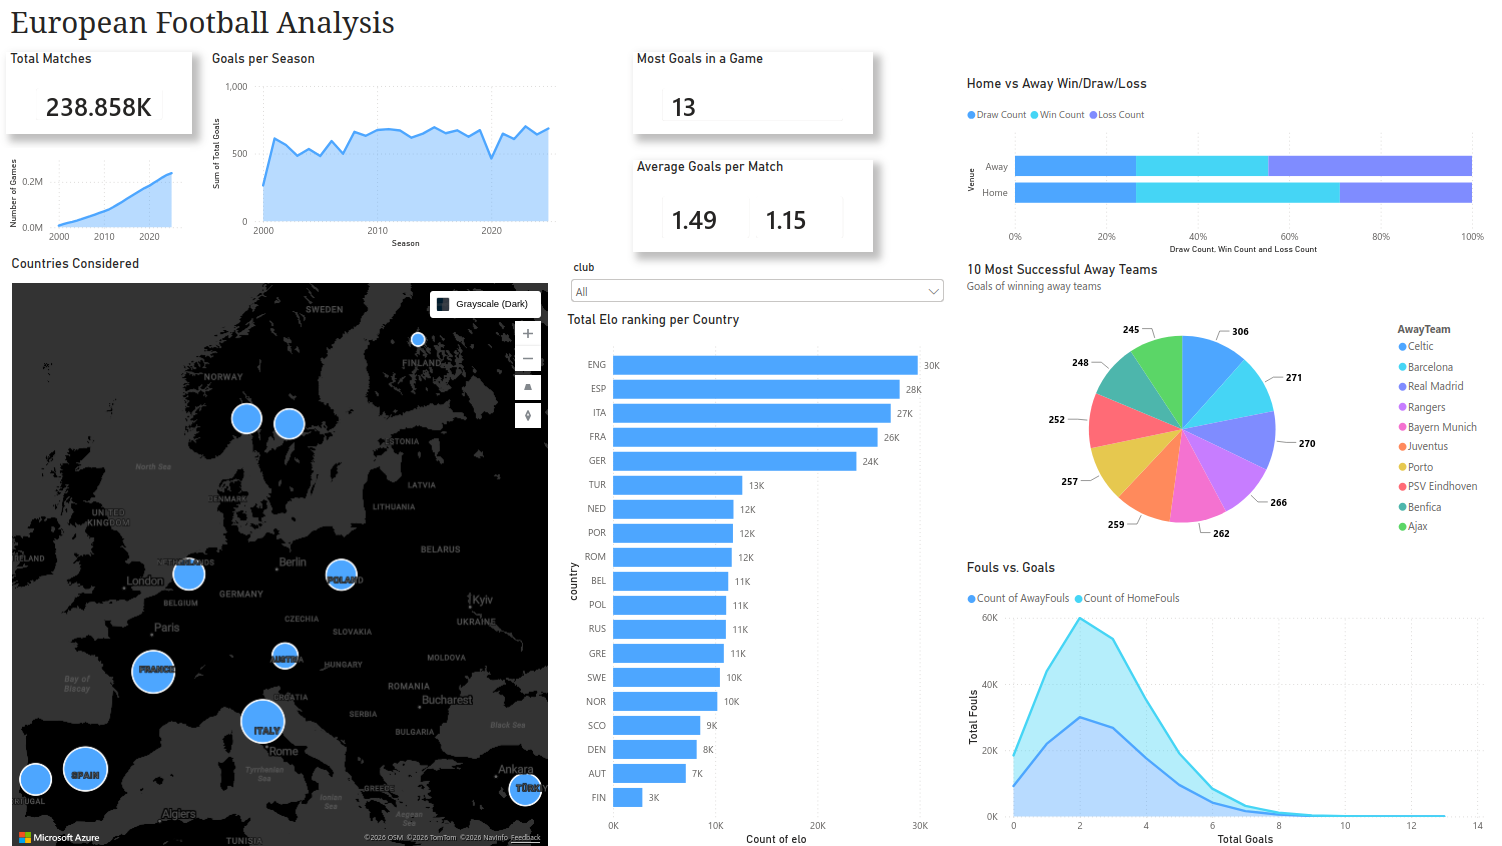

The page's visual inventory and layout, read from the dashboard file:
{"tool":"powerbi","page":{"name":"Page 1","canvas":[1920,1080],"ordinal":0},"visuals":[{"type":"azureMap","title":"Countries Considered","fields":{"Category":["elo_ratings.country"],"Size":["CountNonNull(elo_ratings.club)"]},"box":[11.5,329.5,690.2,750.8],"z":0},{"type":"slicer","fields":{"Values":["elo_ratings.club"]},"box":[716,330,492,60],"z":1000},{"type":"clusteredBarChart","title":"Total Elo ranking per Country","fields":{"Category":["elo_ratings.country"],"Y":["CountNonNull(elo_ratings.elo)"]},"box":[716,402,492,678],"z":2000},{"type":"hundredPercentStackedBarChart","title":"Home vs Away Win/Draw/Loss","fields":{"Category":["Venue.Venue"],"Y":["Venue.Draw Count","Venue.Win Count","Venue.Loss Count"]},"box":[1222.5,102.3,665.2,228.4],"z":3000},{"type":"areaChart","title":"Goals per Season","fields":{"Category":["DimDate.Season"],"Y":["Sum(matches.Total Goals)"]},"box":[266.7,70.2,449.1,252.6],"z":4000},{"type":"cardVisual","title":"Total Matches","fields":{"Data":["CountNonNull(matches.Total matches)"]},"box":[10.5,70.2,235.1,103.5],"z":5000},{"type":"cardVisual","title":"Average Goals per Match","fields":{"Data":["matches.Average Home Goals","matches.Average Away Goals"]},"box":[804,206,304,116],"z":6000},{"type":"cardVisual","title":"Most Goals in a Game","fields":{"Data":["matches.Highest Goals in Match"]},"box":[804,70,304,104],"z":7000},{"type":"textbox","box":[10.5,0,508.8,70.2],"z":8000},{"type":"areaChart","fields":{"Category":["DimDate.Year"],"Y":["matches.Cumulative Total"]},"box":[9.8,191.8,234.4,131.1],"z":9000},{"type":"stackedAreaChart","title":"Fouls vs. Goals","fields":{"Category":["matches.Total Goals"],"Y":["CountNonNull(matches.AwayFouls)","CountNonNull(matches.HomeFouls)"]},"box":[1222.7,714.4,666.7,365.7],"z":10000},{"type":"pieChart","title":"10 Most Successful Away Teams","fields":{"Y":["CountNonNull(matches.FTAway)"],"Category":["matches.AwayTeam"]},"box":[1222.7,337.5,666.7,369.9],"z":11000}]}

Visuals, with their boxes in screenshot pixels (x1, y1, x2, y2), scaled from the page's 1920x1080 canvas onto the 1502x846 screenshot:
"Countries Considered" azureMap: {"left": 9, "top": 258, "right": 549, "bottom": 845}
slicer - elo_ratings.club: {"left": 560, "top": 258, "right": 945, "bottom": 306}
"Total Elo ranking per Country" clusteredBarChart: {"left": 560, "top": 315, "right": 945, "bottom": 845}
"Home vs Away Win/Draw/Loss" hundredPercentStackedBarChart: {"left": 956, "top": 80, "right": 1477, "bottom": 259}
"Goals per Season" areaChart: {"left": 209, "top": 55, "right": 560, "bottom": 253}
"Total Matches" cardVisual: {"left": 8, "top": 55, "right": 192, "bottom": 136}
"Average Goals per Match" cardVisual: {"left": 629, "top": 161, "right": 867, "bottom": 252}
"Most Goals in a Game" cardVisual: {"left": 629, "top": 55, "right": 867, "bottom": 136}
textbox: {"left": 8, "top": 0, "right": 406, "bottom": 55}
areaChart - DimDate.Year x matches.Cumulative Total: {"left": 8, "top": 150, "right": 191, "bottom": 253}
"Fouls vs. Goals" stackedAreaChart: {"left": 957, "top": 560, "right": 1478, "bottom": 845}
"10 Most Successful Away Teams" pieChart: {"left": 957, "top": 264, "right": 1478, "bottom": 554}
